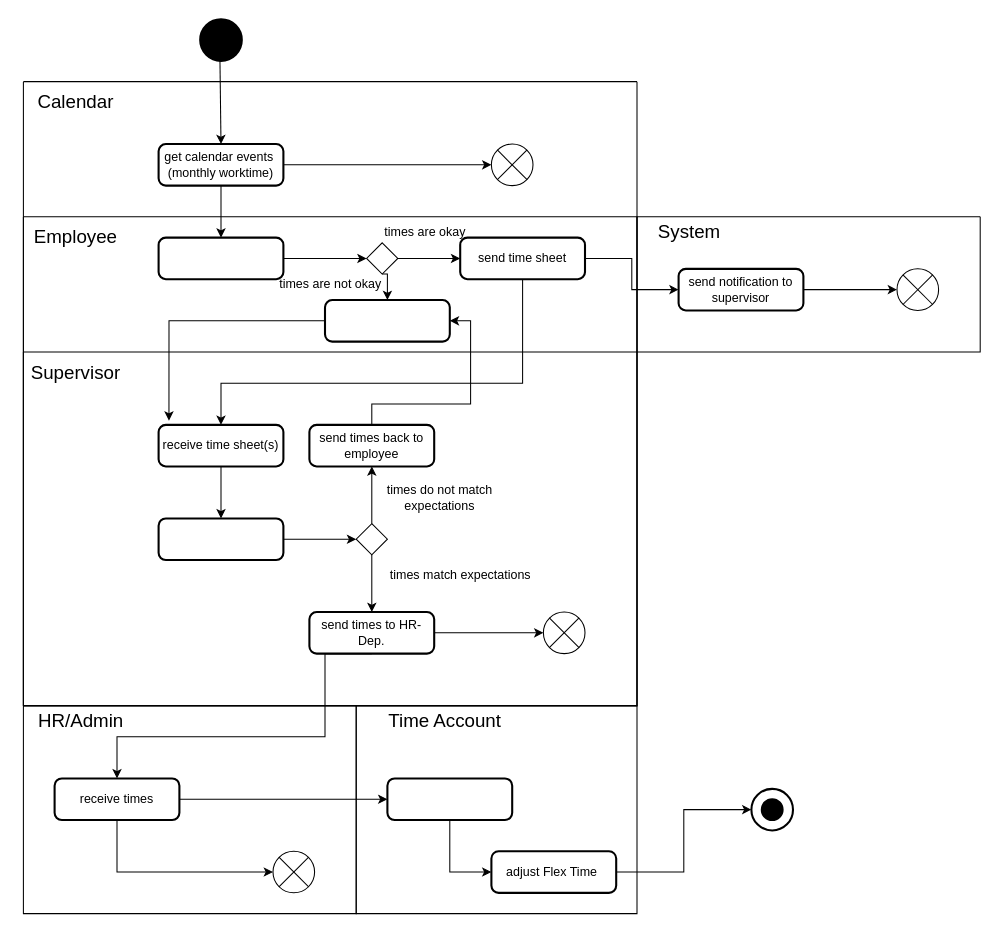
Some shapes in this 998 by 932 pixel diagram are drawn without their labels. Here are the shapes that lost their labels. From the top down, the centre of each, then its label:
At point (220, 258): "check monthly worktime".
At point (386, 320): "correct times".
At point (220, 539): "review submitted times".
At point (449, 799): "book times".
